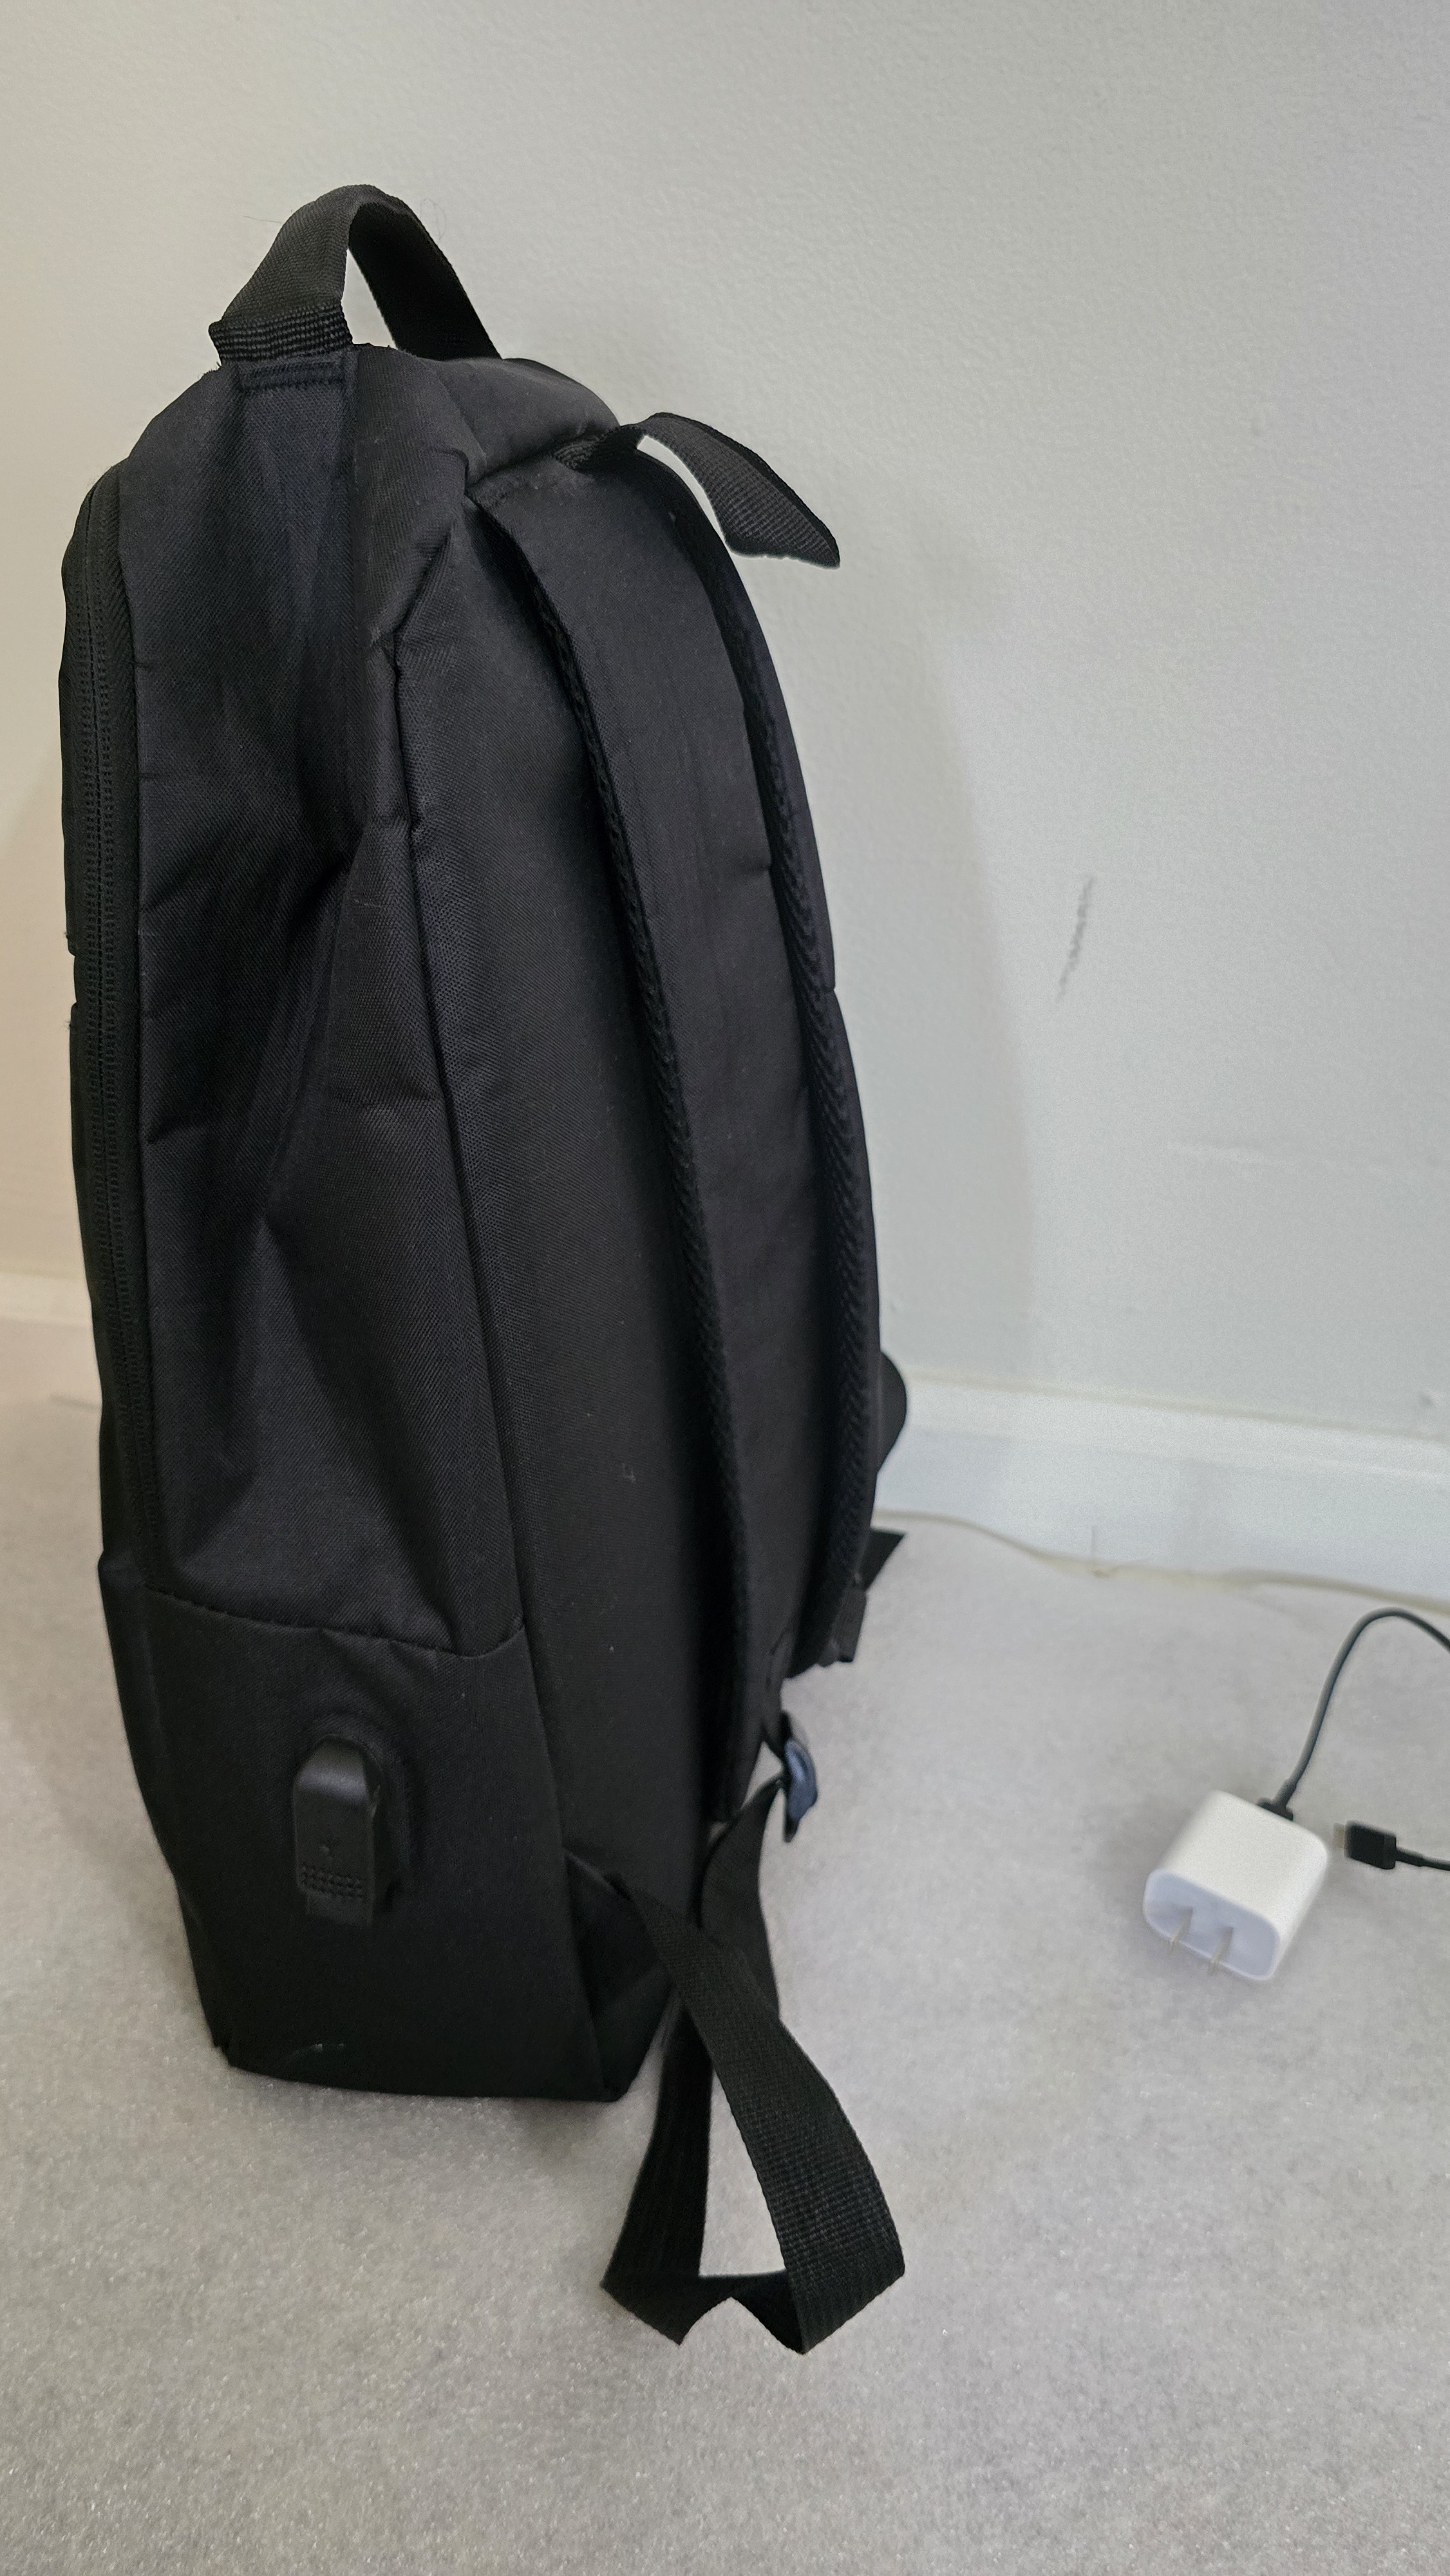bag: (34, 166, 1050, 2229)
